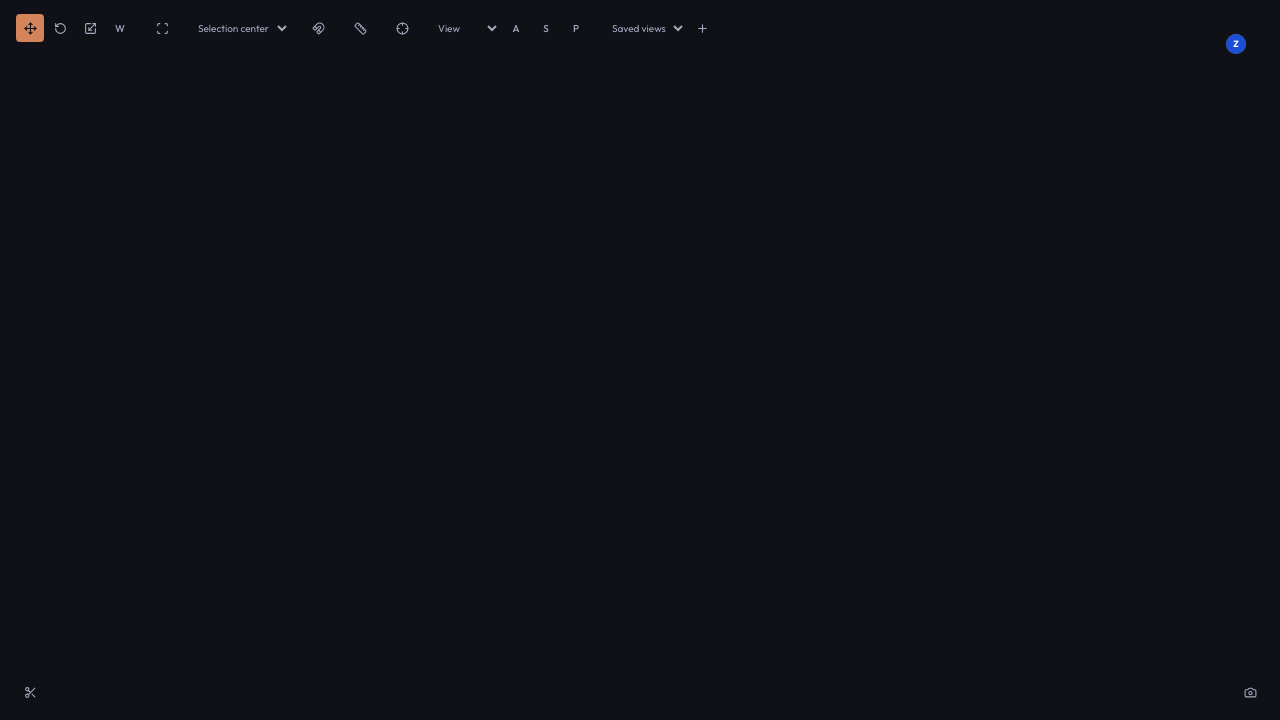
Test: ViewportToolbar camera controls › offers object snapping and announces the active target
This screenshot has width=1280, height=720.
Click the button named "Snap to objects, bounds, and world origin".
click(162, 28)  # box [148,14,176,42]
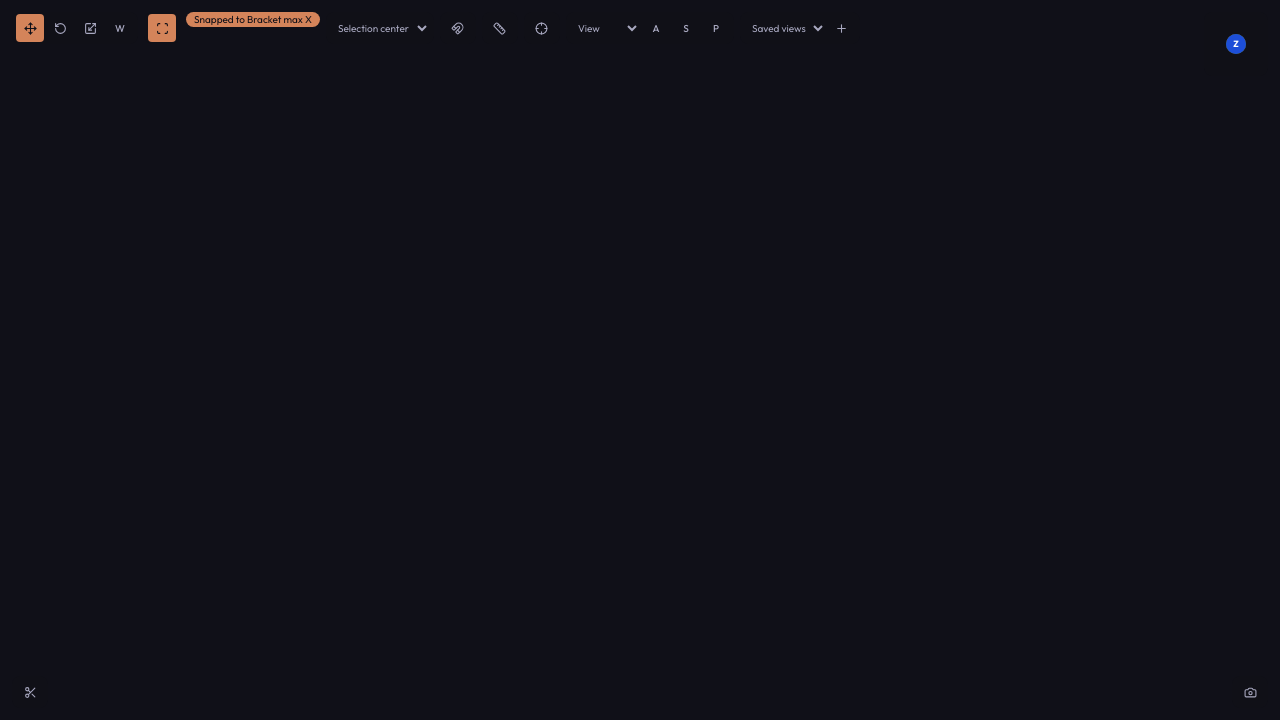
Expected: the message reads "Snapped to Bracket max X", [186,12,320,27]
